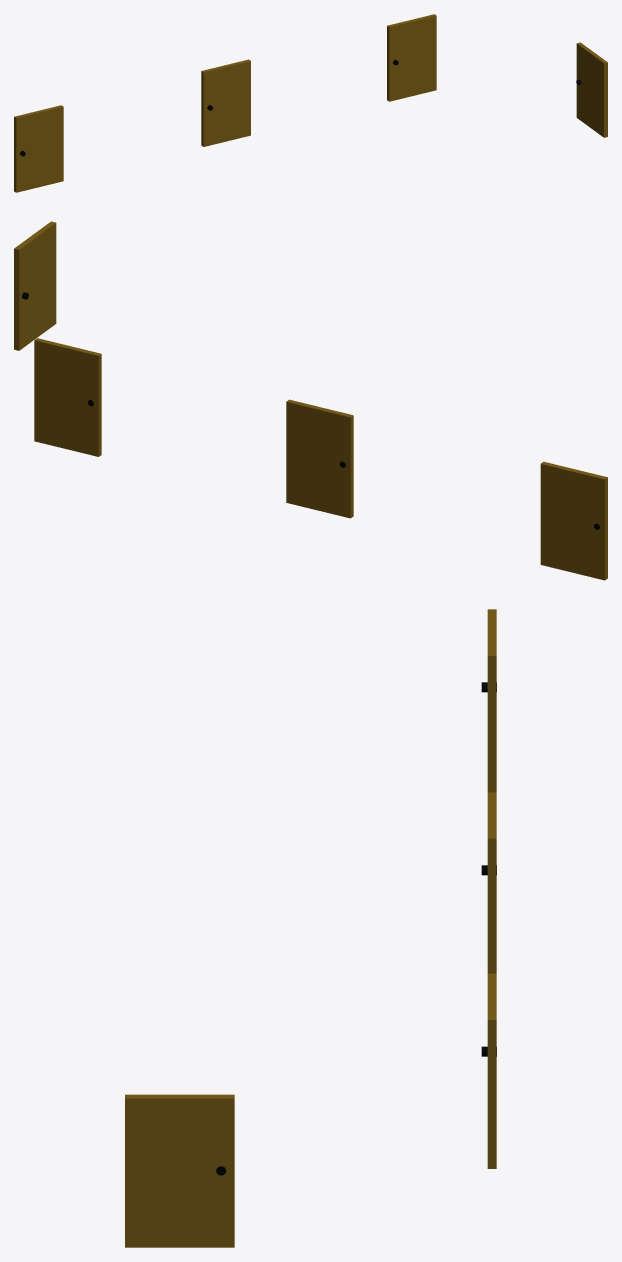
Rendered from Doors.fbx.
3 renders of one model, top to bottom at view 1: azimuth 30°, elevation 25°; view 2: azimuth 150°, elevation 25°; view 3: azimuth 270°, elevation 25°, orthographic. The views are drawn at different scales.
Visible parts, largest first — view 1: Cube, Cube_1, Cube_2, Cube_3; view 2: Cube_1, Cube_2, Cube, Cube_3; view 3: Cube_3, Cube, Cube_2, Cube_1.
Part boxes in pixels (x1,y1,x2,y2): Cube: (387, 14, 436, 101); Cube_1: (201, 59, 250, 146); Cube_2: (14, 105, 63, 192); Cube_3: (576, 42, 607, 137); Cube_1: (286, 399, 353, 518); Cube_2: (540, 461, 607, 580); Cube: (34, 338, 101, 456); Cube_3: (14, 221, 56, 350); Cube_3: (125, 1094, 234, 1247); Cube: (487, 973, 496, 1168); Cube_2: (487, 609, 496, 792); Cube_1: (487, 792, 496, 973).
Bounding box in the file's own units: 1439 × 204 × 463.
